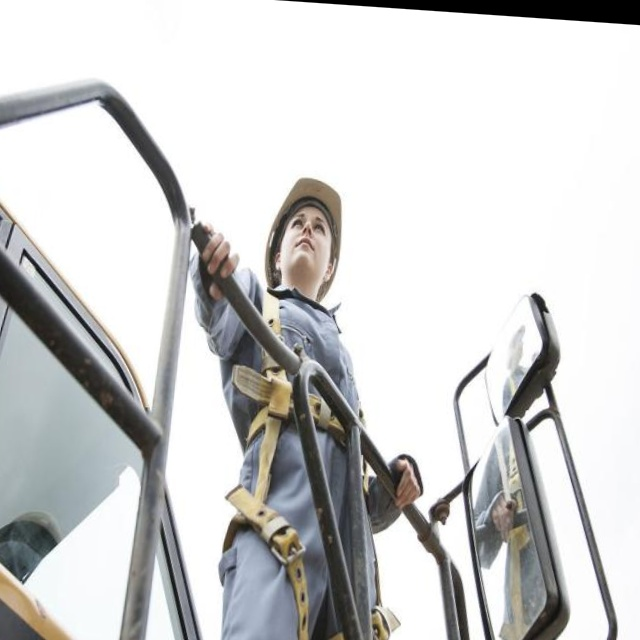Con_Casco: (262, 169, 348, 294)
